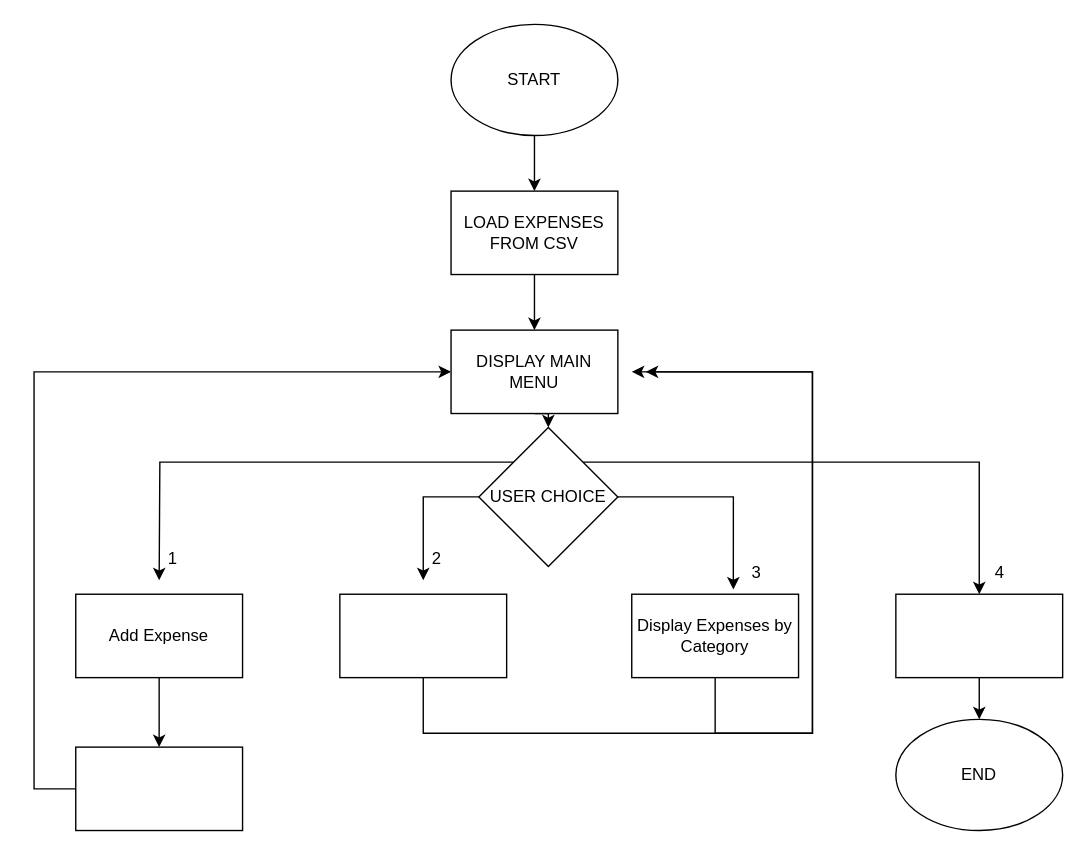
This 1087x855 diagram has some shape labels left out. Each missing label, with the centre of its shape:
Calculate Total Spent and Remaining Budget: point (422, 635)
EXIT: point (978, 635)
Save to CSV: point (158, 788)
